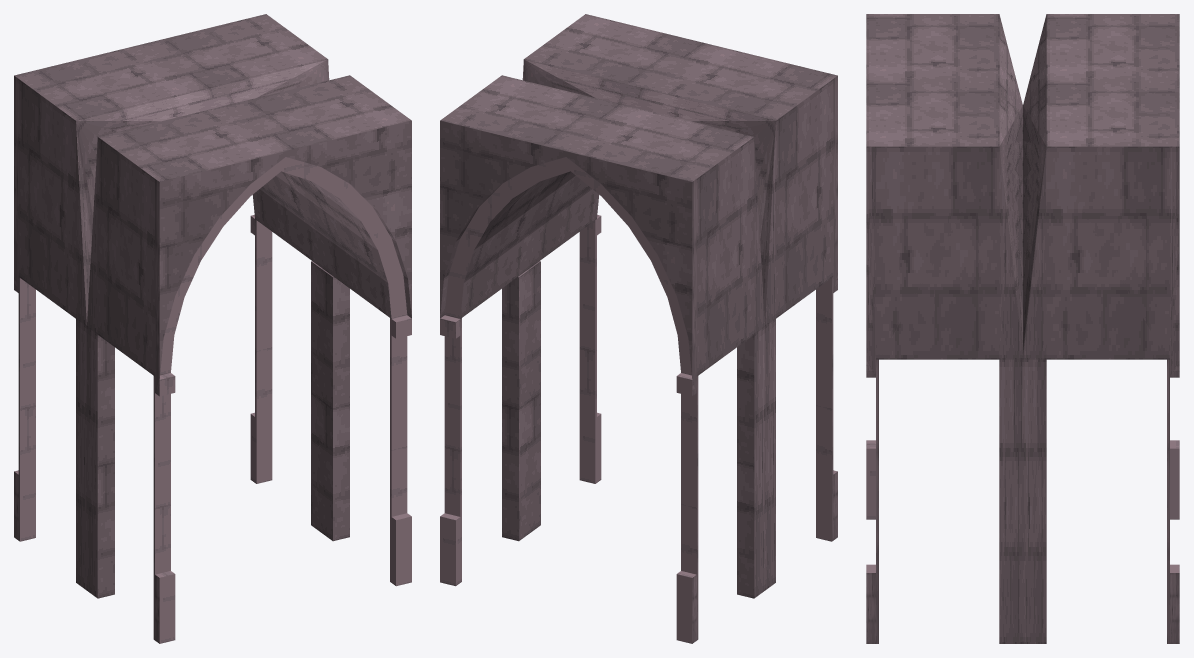
The model's file is door_frame_locked_b.glb.
3 renders of one model, left to right at view 1: azimuth 30°, elevation 25°; view 2: azimuth 150°, elevation 25°; view 3: azimuth 270°, elevation 25°, orthographic. The views are drawn at different scales.
Visible parts, largest first — view 1: portal_front, portal_back; view 2: portal_back, portal_front; view 3: portal_back, portal_front.
Boxes of the visible parts, left/top/right/bottom form: portal_front: left=87, top=75, right=411, bottom=643; portal_back: left=14, top=14, right=329, bottom=590; portal_back: left=440, top=75, right=764, bottom=643; portal_front: left=522, top=14, right=837, bottom=590; portal_back: left=1023, top=14, right=1179, bottom=643; portal_front: left=866, top=14, right=1022, bottom=643.
Bounding box in the file's own units: 2 × 3.5 × 2.
Materials: 1 (1 with a texture image).
